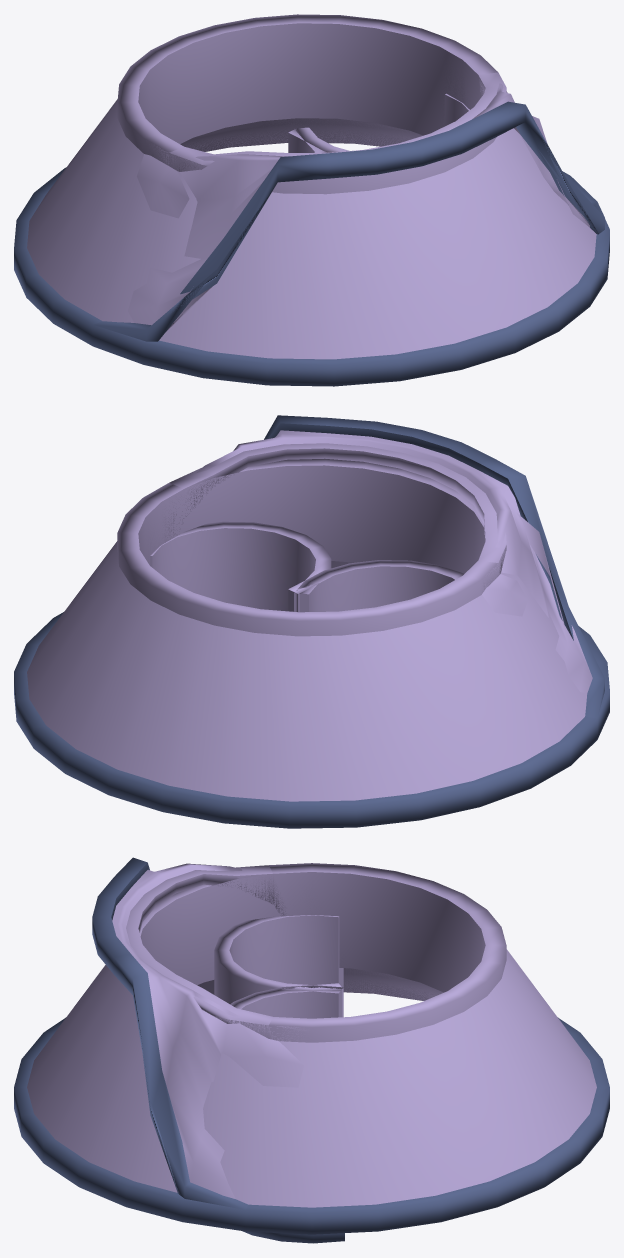
File: buttoned_wraparound_skirt.glb
3 renders of one model, top to bottom at view 1: azimuth 30°, elevation 25°; view 2: azimuth 150°, elevation 25°; view 3: azimuth 270°, elevation 25°, orthographic.
Visible parts, largest first — view 1: buttoned_wraparound_skirt_Body, buttoned_wraparound_skirt_Body_sit, buttoned_wraparound_skirt_LegR_sit; view 2: buttoned_wraparound_skirt_Body, buttoned_wraparound_skirt_Body_sit, buttoned_wraparound_skirt_LegR_sit, buttoned_wraparound_skirt_LegL_sit; view 3: buttoned_wraparound_skirt_Body, buttoned_wraparound_skirt_Body_sit, buttoned_wraparound_skirt_LegL_sit, buttoned_wraparound_skirt_LegR_sit.
Boxes of the visible parts, <box> form: buttoned_wraparound_skirt_Body: <box>14,14,609,386</box>; buttoned_wraparound_skirt_Body_sit: <box>93,48,604,341</box>; buttoned_wraparound_skirt_LegR_sit: <box>294,93,469,152</box>; buttoned_wraparound_skirt_Body: <box>14,458,609,828</box>; buttoned_wraparound_skirt_Body_sit: <box>145,415,604,718</box>; buttoned_wraparound_skirt_LegR_sit: <box>150,521,331,612</box>; buttoned_wraparound_skirt_LegL_sit: <box>294,560,463,612</box>; buttoned_wraparound_skirt_Body: <box>14,863,609,1234</box>; buttoned_wraparound_skirt_Body_sit: <box>92,857,443,1209</box>; buttoned_wraparound_skirt_LegL_sit: <box>214,915,343,1017</box>; buttoned_wraparound_skirt_LegR_sit: <box>230,985,344,1243</box>.
Bounding box in the file's own units: 0.628 × 0.2847 × 0.628.
